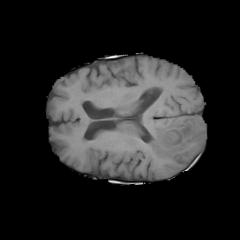glioma: (145, 121, 192, 160)
